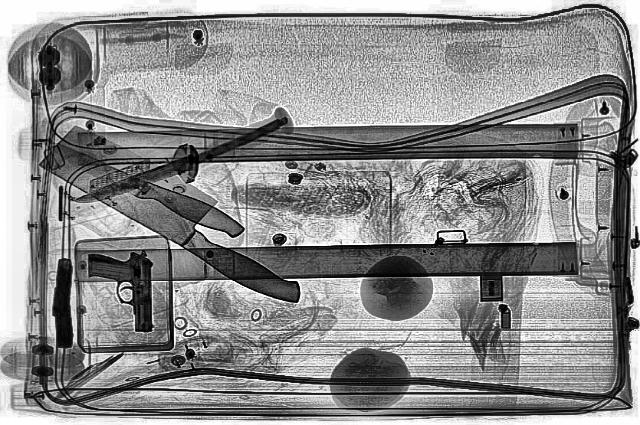Gun: (85, 250, 155, 332), (51, 257, 74, 347)
Knife: (20, 121, 346, 309), (29, 128, 251, 242), (71, 114, 301, 208)
